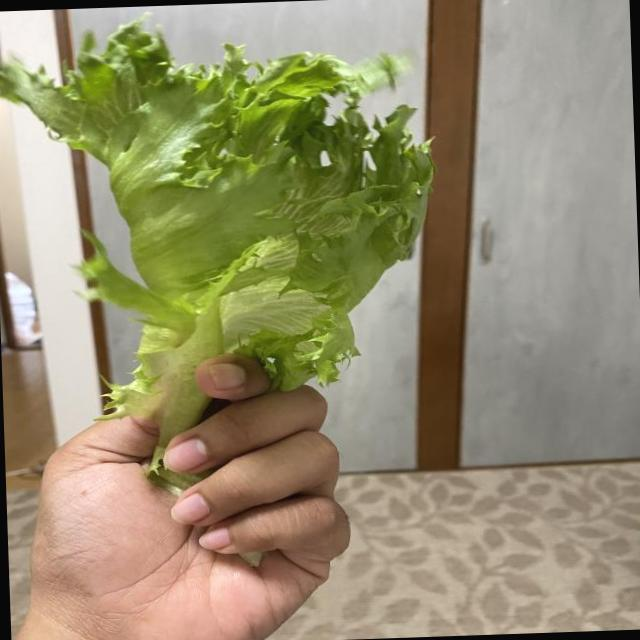Lettuce-Ready-to-Harvest: (0, 21, 433, 489)
